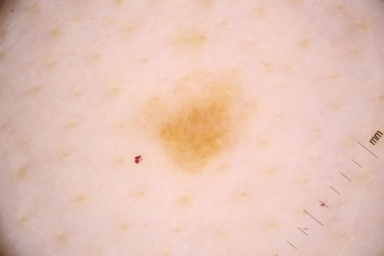seborrheic keratosis: (132, 67, 267, 180)
